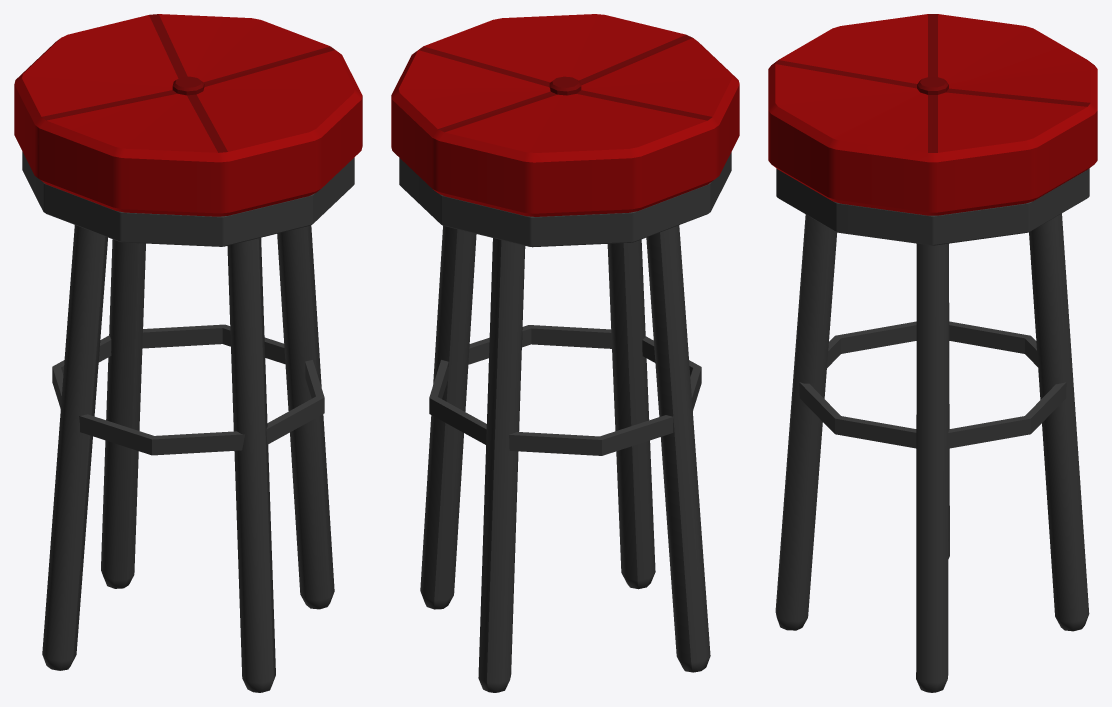
File: stool.fbx
3 views of the same model, side by side, from view 1: azimuth 30°, elevation 25°; view 2: azimuth 150°, elevation 25°; view 3: azimuth 270°, elevation 25° (orthographic).
Visible parts, largest first — view 1: StoolCushion, Leg2, Leg1, Leg3, Leg, StoolBottom1, pPipe1; view 2: StoolCushion, Leg1, Leg, Leg3, Leg2, StoolBottom1, pPipe1; view 3: StoolCushion, Leg3, Leg, Leg2, StoolBottom1, pPipe1.
Part boxes in pixels (box(x1,y1,x2,y2)): StoolCushion: box(14, 14, 362, 216); Leg2: box(227, 237, 275, 692); Leg1: box(42, 225, 107, 670); Leg3: box(277, 225, 334, 609); Leg: box(101, 239, 145, 588); StoolBottom1: box(22, 151, 354, 246); pPipe1: box(52, 324, 324, 455); StoolCushion: box(391, 14, 739, 216); Leg1: box(646, 225, 710, 672); Leg: box(478, 238, 525, 692); Leg3: box(420, 226, 476, 609); Leg2: box(607, 239, 655, 589); StoolBottom1: box(399, 152, 731, 247); pPipe1: box(429, 325, 701, 455); StoolCushion: box(768, 14, 1097, 215); Leg3: box(916, 243, 948, 692); Leg: box(1029, 213, 1089, 631); Leg2: box(775, 214, 837, 630); StoolBottom1: box(776, 168, 1089, 245); pPipe1: box(799, 321, 1066, 448).
Size of the model in its own units: 19.82 by 34.95 by 19.02.
